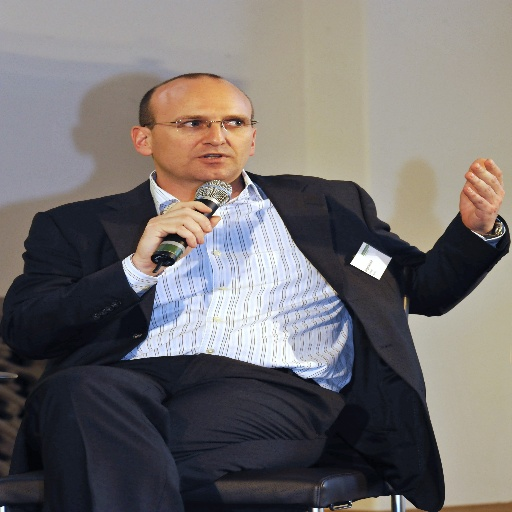hand: (133, 197, 226, 263), (458, 157, 505, 233)
